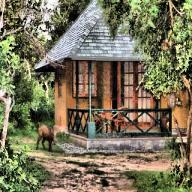boar: (35, 124, 55, 152)
